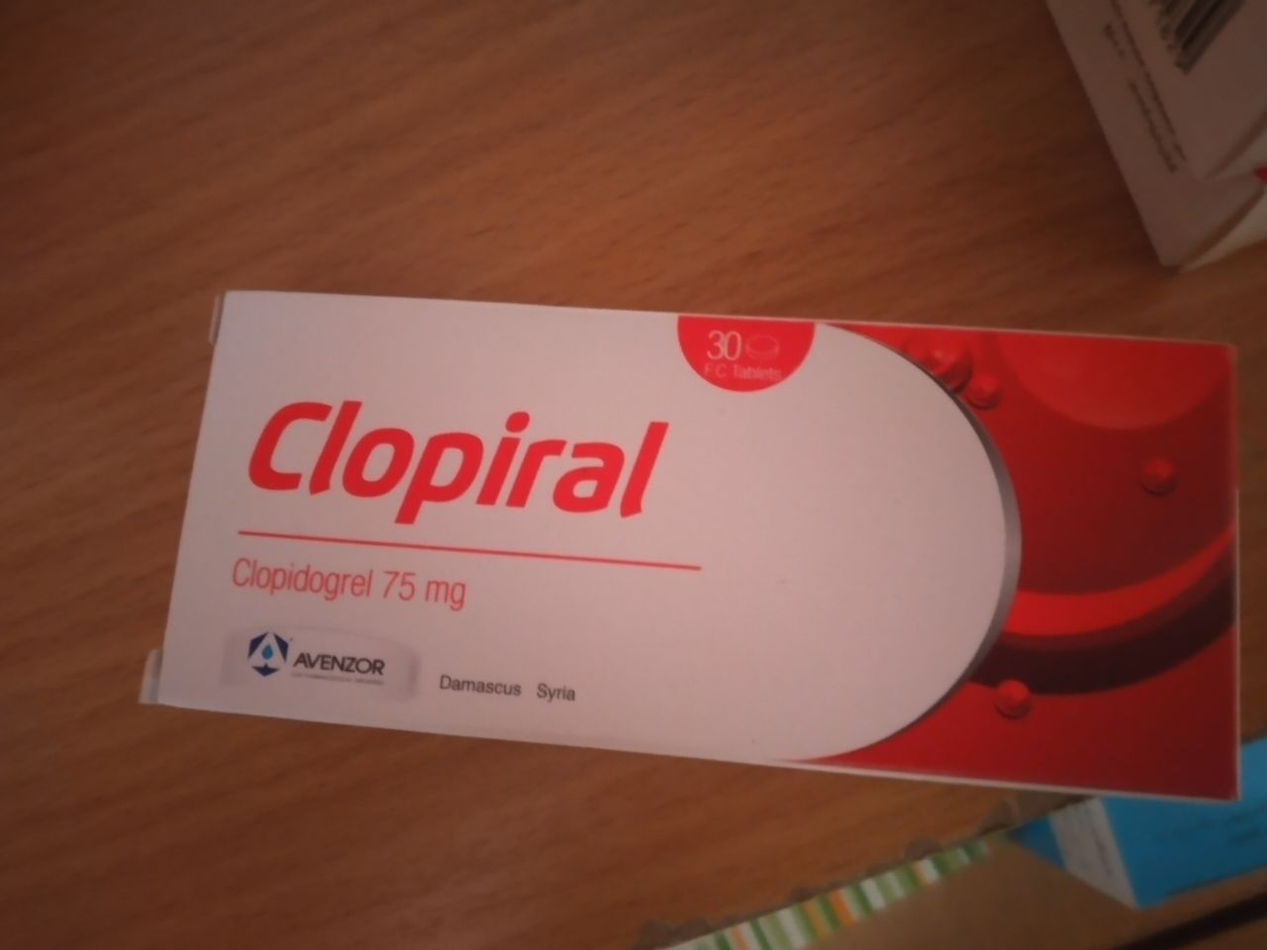Medicine: (141, 247, 1252, 829)
